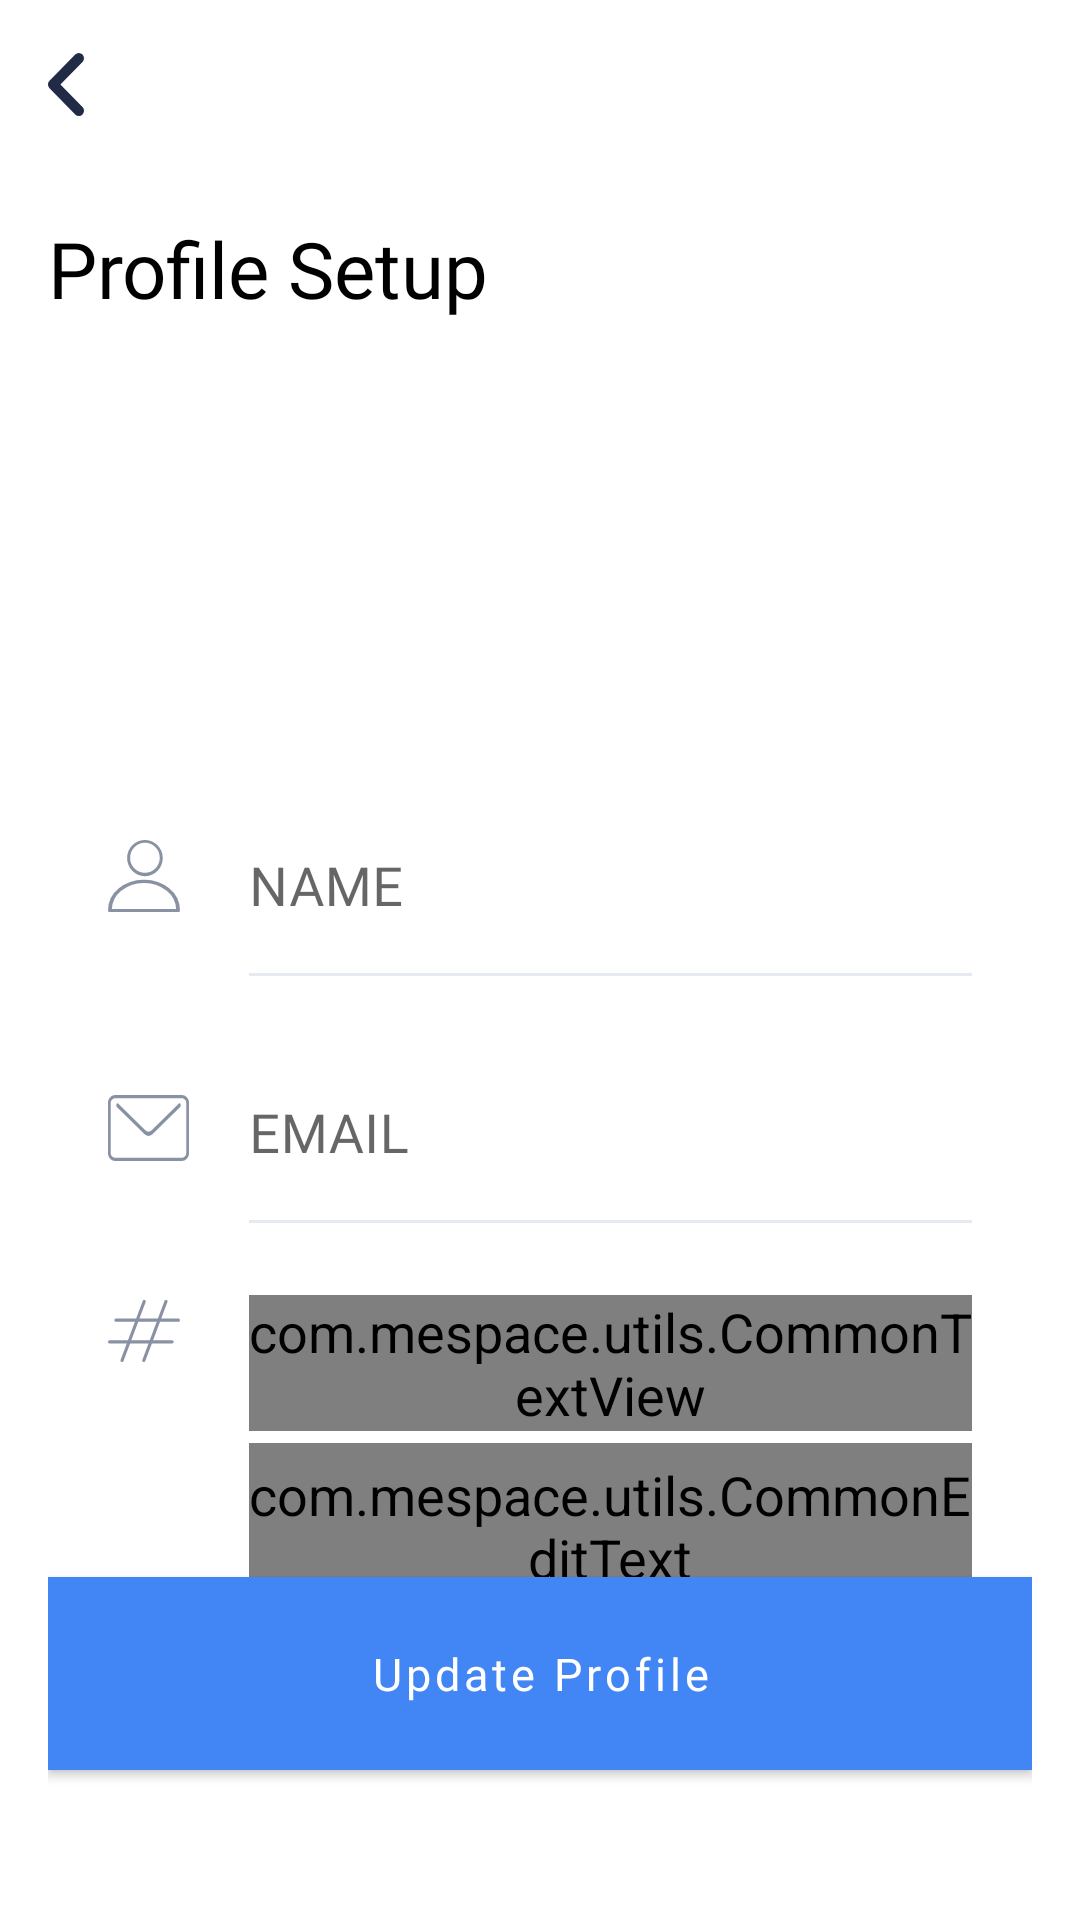

Screen size 1080x1920. Icon name, then its box in pixels as rect(x1, y1, x2, y2):
back: rect(48, 53, 84, 116)
hashtag: rect(108, 1300, 180, 1362)
